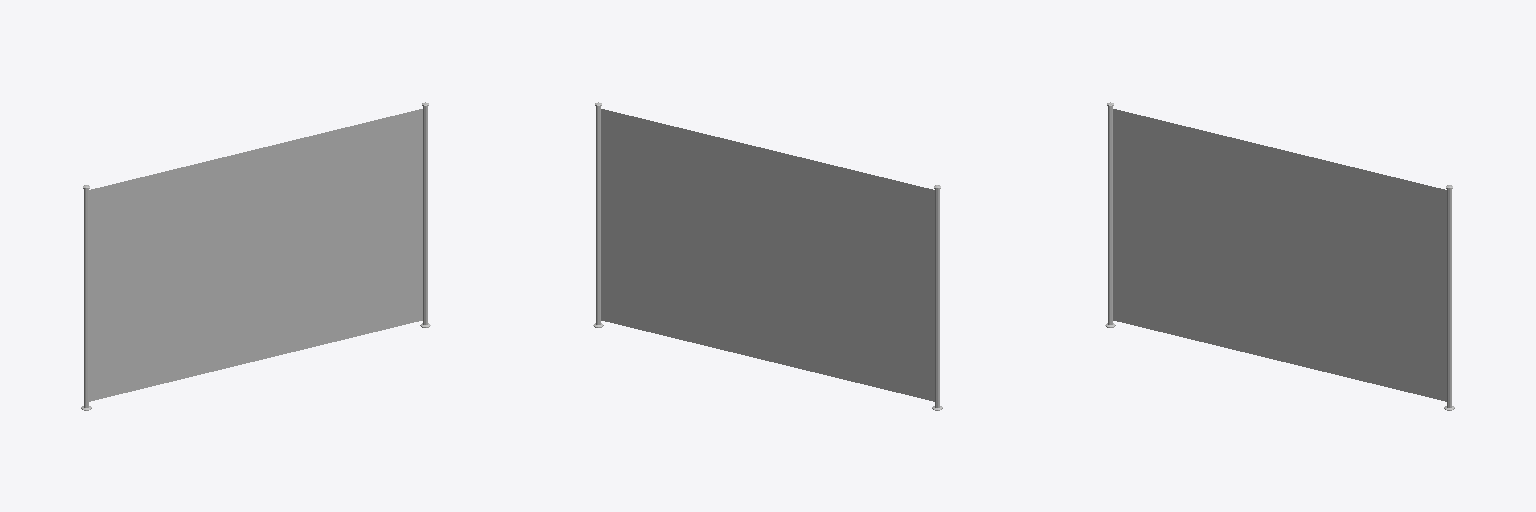
Rendered from GrindMesh.obj.
The picture shows the model from 3 angles: view 1: azimuth 30°, elevation 25°; view 2: azimuth 150°, elevation 25°; view 3: azimuth 330°, elevation 25°; orthographic projection.
Parts seen in each view (by area): view 1: polySurface499; view 2: polySurface499; view 3: polySurface499.
Part boxes in pixels (x1,y1,x2,y2): polySurface499: (81, 102, 430, 410); polySurface499: (593, 102, 942, 410); polySurface499: (1105, 102, 1454, 410).
Size of the model in its own units: 5.45 by 3.33 by 0.1423.